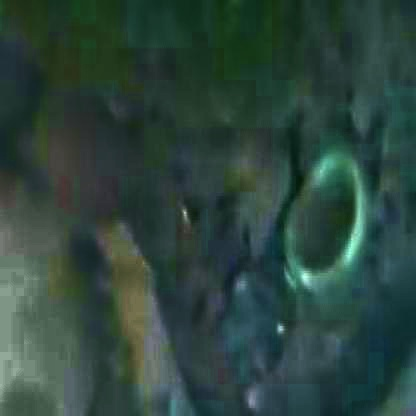tire: (277, 132, 395, 320)
